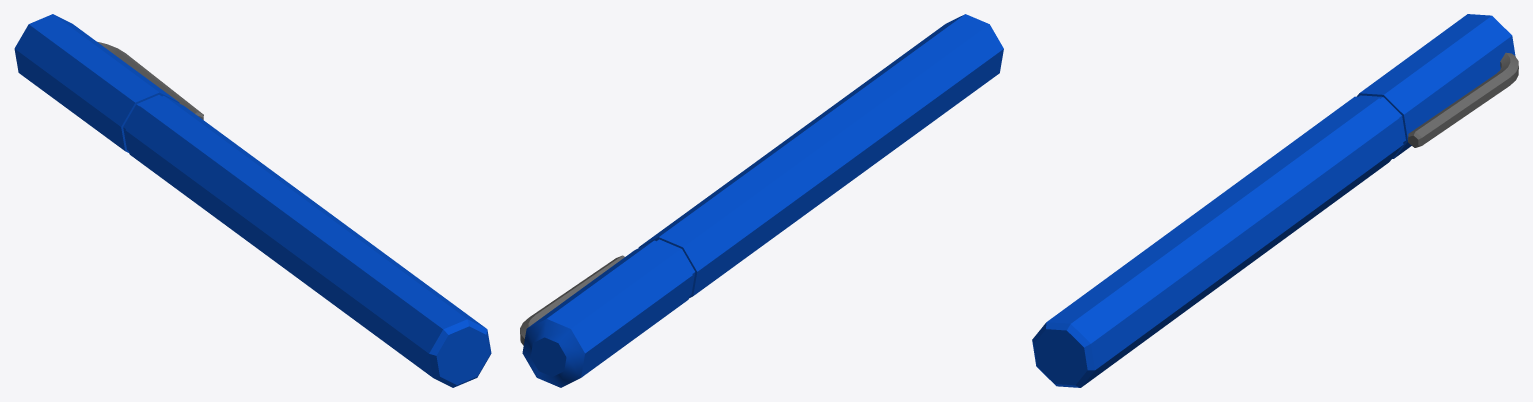
File: Lapiz09.fbx
3 renders of one model, left to right at view 1: azimuth 30°, elevation 25°; view 2: azimuth 150°, elevation 25°; view 3: azimuth 330°, elevation 25°, orthographic.
Visible parts, largest first — view 1: Lapiz09; view 2: Lapiz09; view 3: Lapiz09.
Part boxes in pixels (bbox=[...]): Lapiz09: bbox=[14, 14, 491, 387]; Lapiz09: bbox=[520, 14, 1003, 387]; Lapiz09: bbox=[1032, 14, 1518, 387].
Size of the model in its own units: 2.08 by 1.55 by 18.01.
